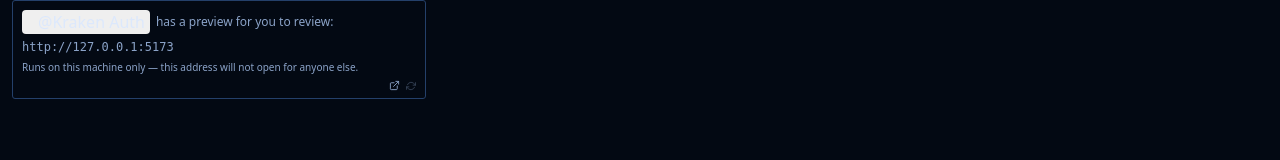
Test case: PreviewCards — the card's nested controls reach the accessibility tree › the disclosure BUTTON toggles the card, and reports its own expanded state
Click the button with test id "concierge-preview-toggle": (245, 21) [156,12,334,30]
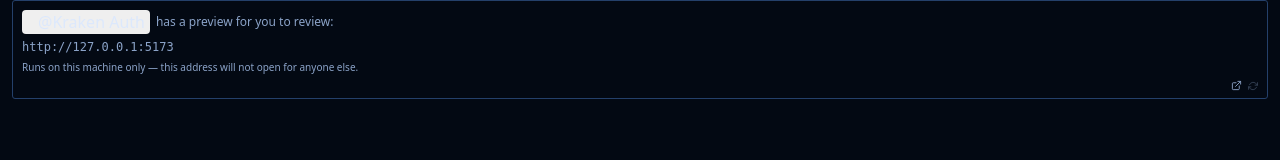
Now the element with test id "concierge-preview-card" has attribute data-expanded="true"
Click the button with test id "concierge-preview-toggle": (245, 21) [156,12,334,30]
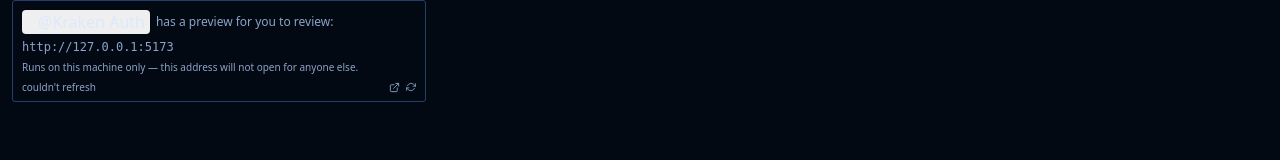
Now the element with test id "concierge-preview-card" does not have attribute data-expanded, box [12,0,426,102]
